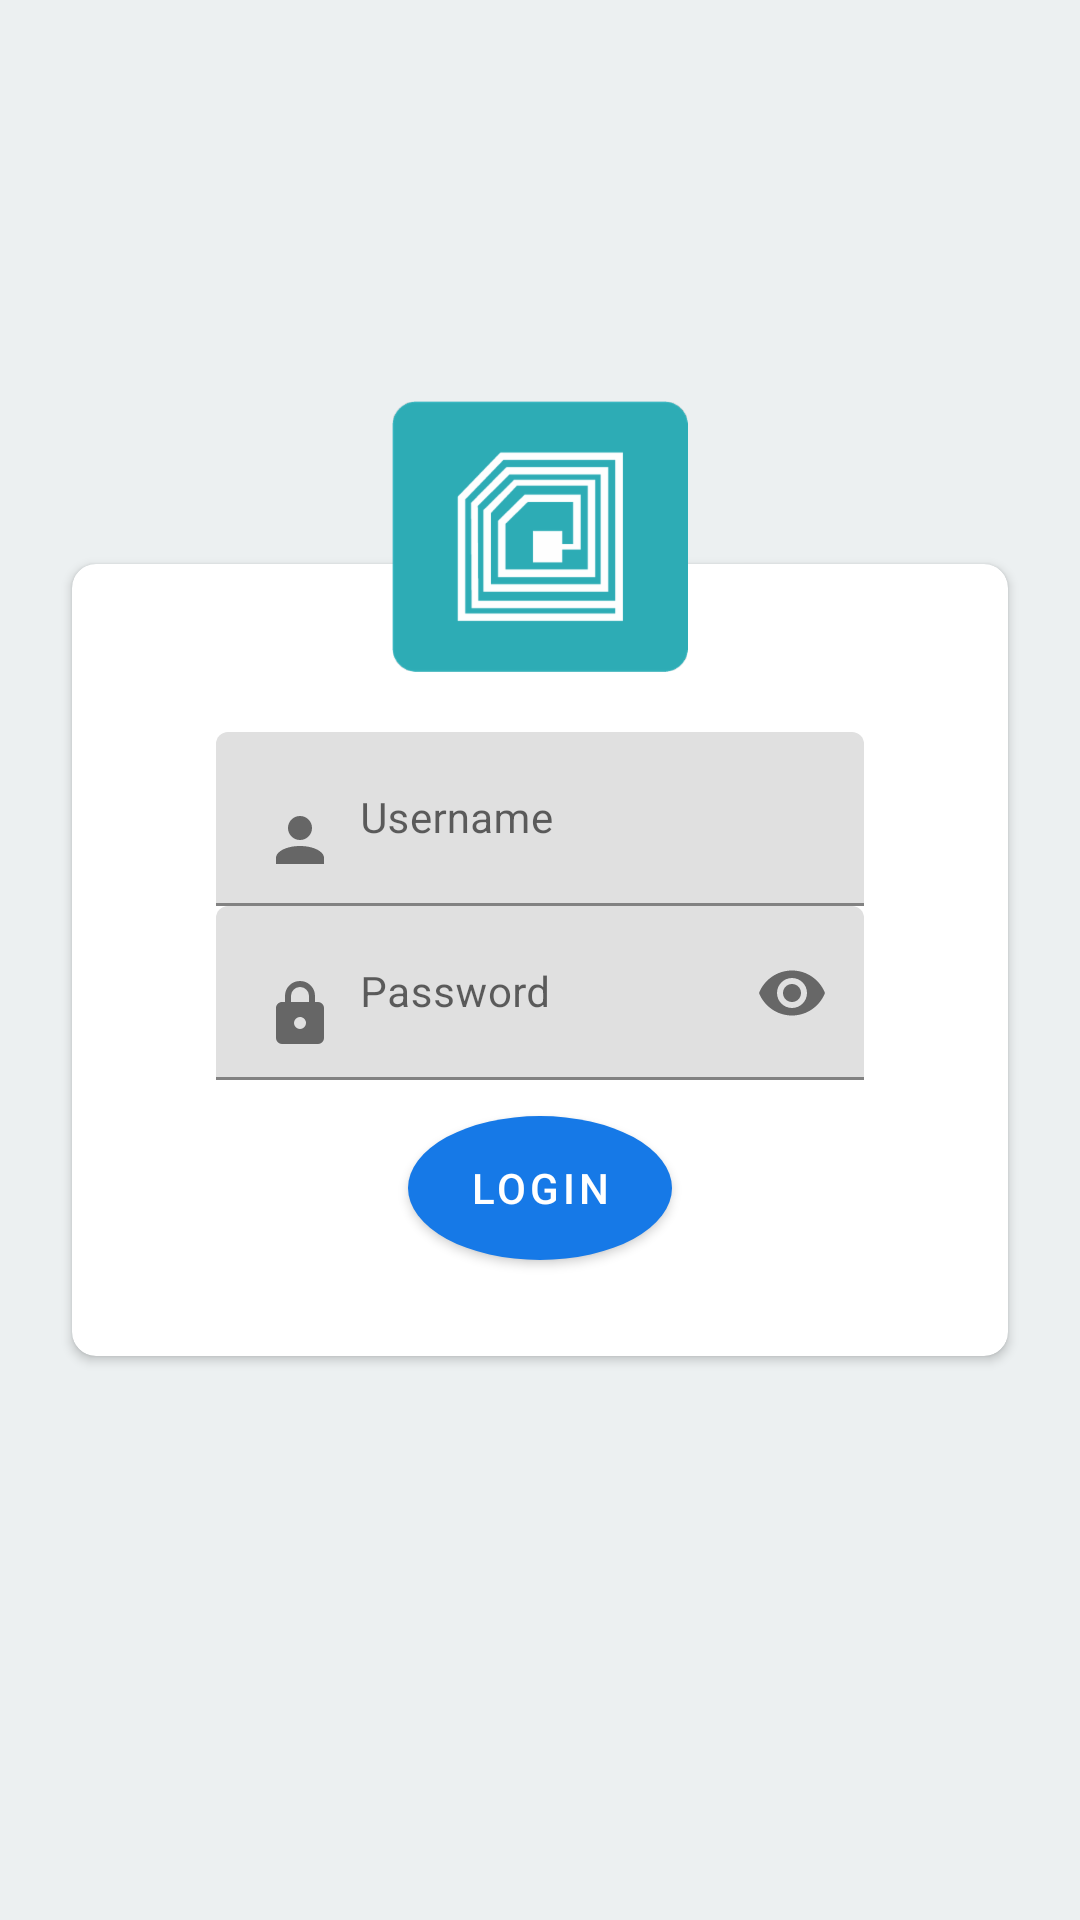

Icon bounding boxes for this 1080×1920 phone screenshot, format (x1, y1, x2, y2):
rfid: (392, 401, 688, 672)
